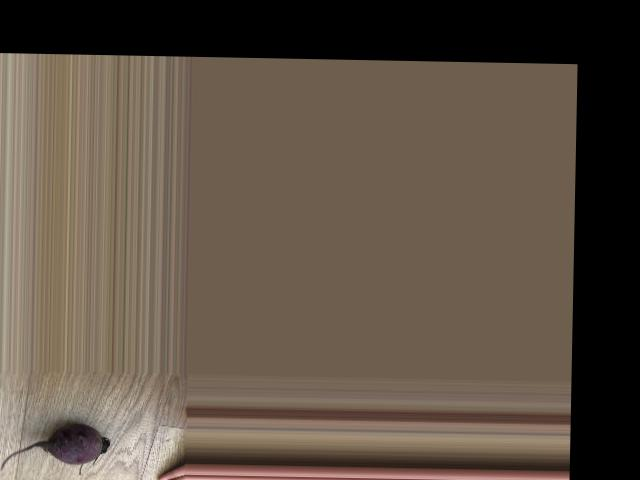beet: (0, 422, 109, 475)
